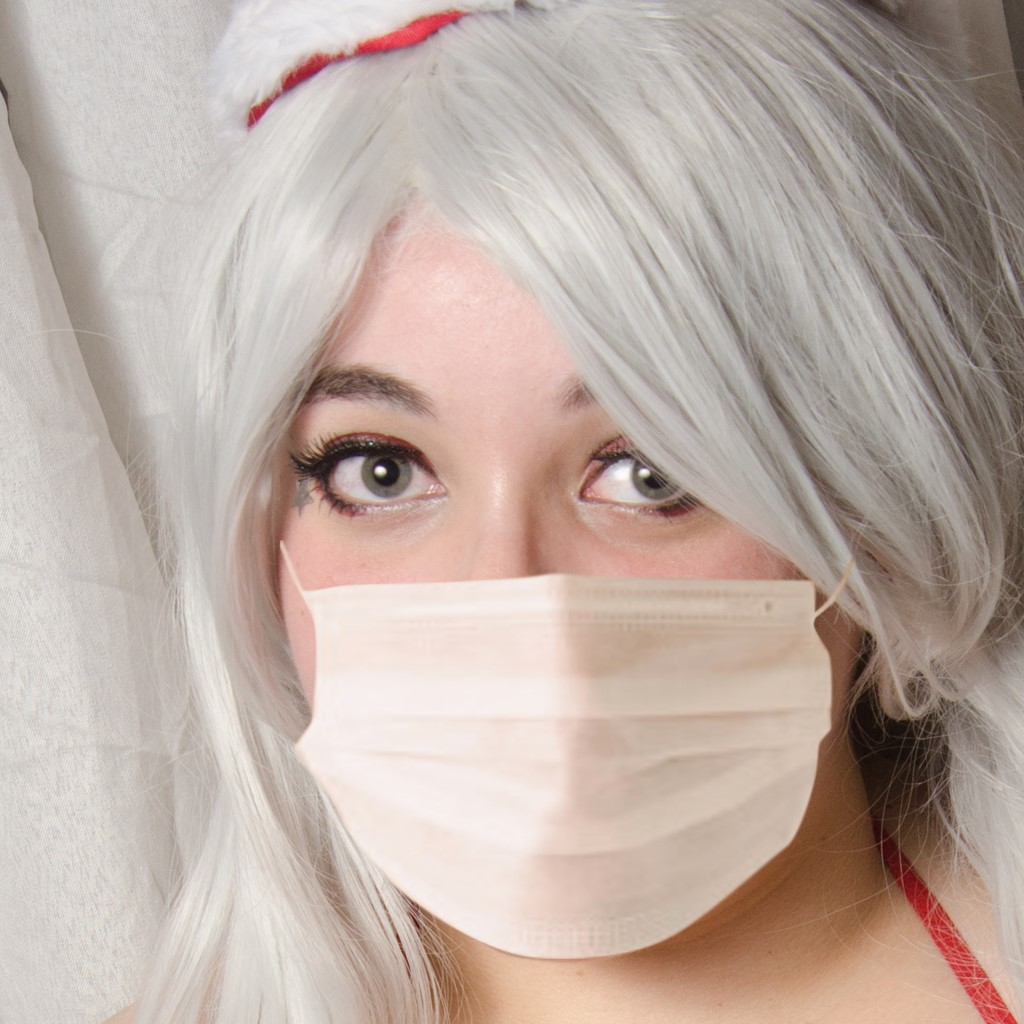con_mascara: (234, 221, 887, 982)
